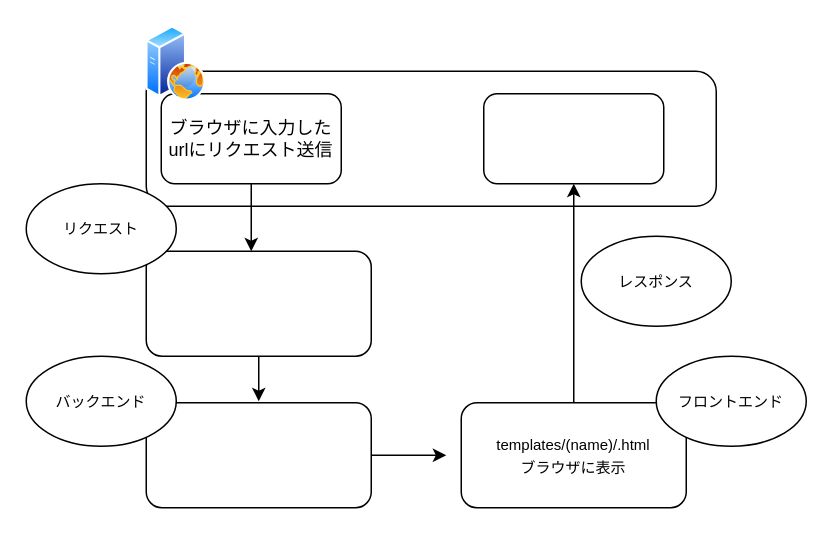
Image size: 833x534. Some labels were removed from this diagram. Each missing label, with the centre of its shape:
"urls.py 受け取ったurlより実行するviews.pyのクラスを選択" belongs at [258,303].
"views.py 辞書型データを作成、初期化 辞書を渡すhtmlファイルを選択" belongs at [258,454].
"クライアント" belongs at [573,138].
